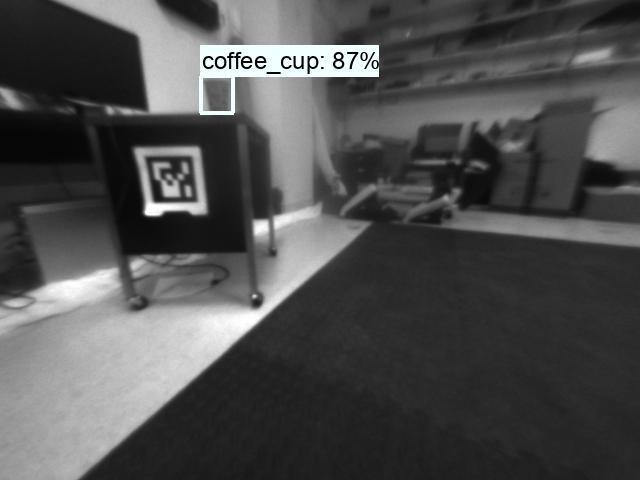coffee_cup: (200, 77, 234, 112)
